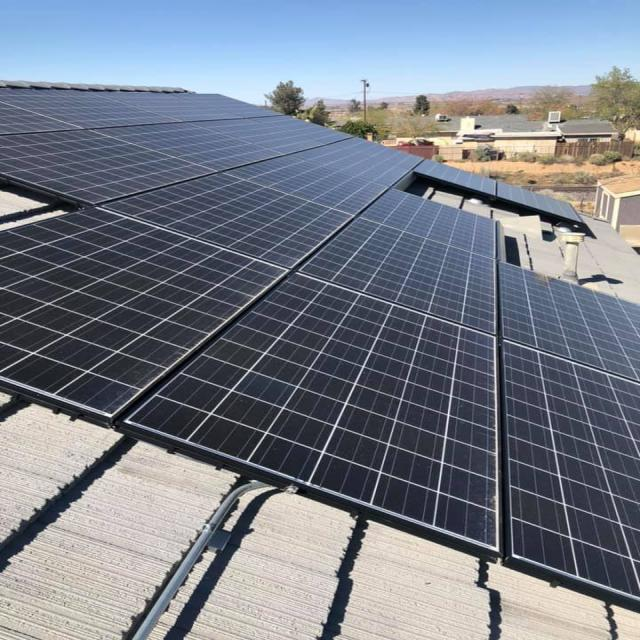clean-solar-panel: (0, 88, 638, 604)
